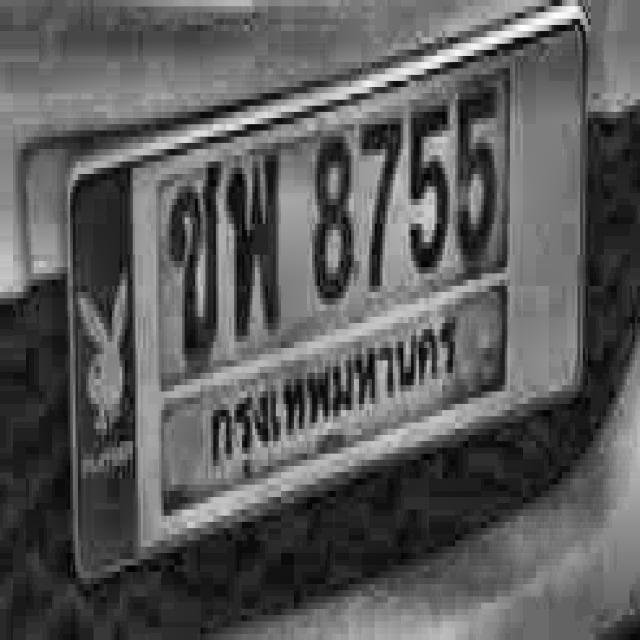license-plate: (36, 0, 598, 640)
